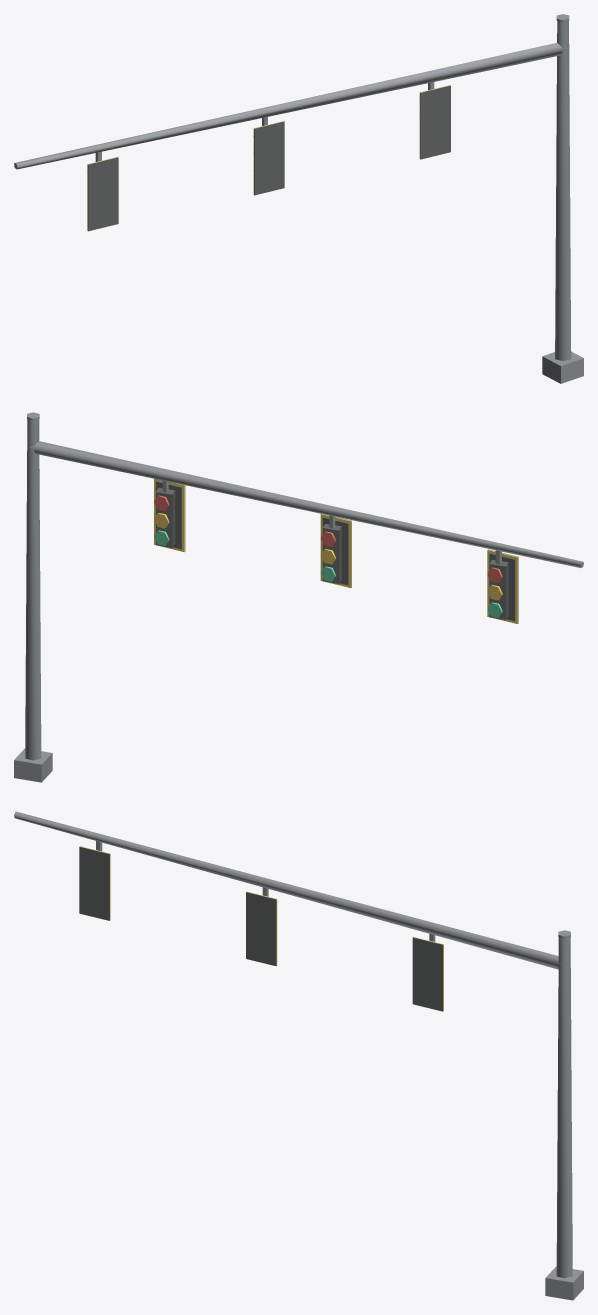
Rendered from signal-3-far.glb.
3 views of the same model, one above another, from view 1: azimuth 30°, elevation 25°; view 2: azimuth 150°, elevation 25°; view 3: azimuth 330°, elevation 25° (orthographic).
Parts seen in each view (by area): view 1: signal-3-far; view 2: signal-3-far; view 3: signal-3-far.
Part boxes in pixels (left/top/right/bottom): signal-3-far: left=14, top=14, right=583, bottom=383; signal-3-far: left=14, top=412, right=583, bottom=782; signal-3-far: left=14, top=811, right=583, bottom=1300.
Size of the model in its own units: 1.64 by 1 by 0.0857.
